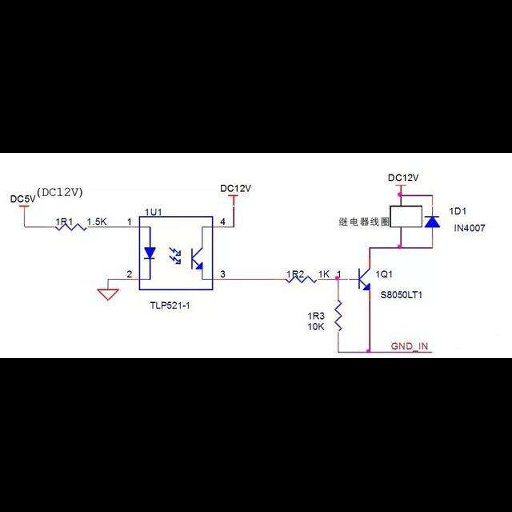firstdiode: (424, 211, 442, 232), (142, 244, 159, 263)
npn: (354, 264, 374, 297)
secondresistance: (332, 297, 347, 335), (51, 224, 92, 234), (283, 276, 317, 284)
